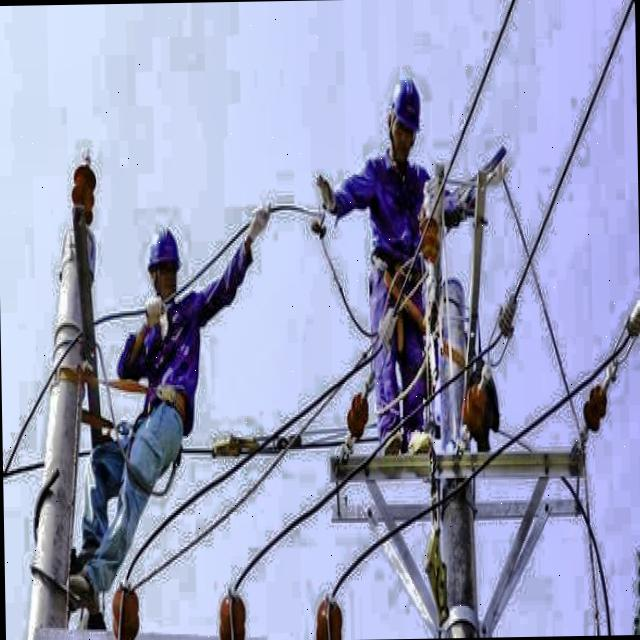helmet: (385, 66, 424, 168), (145, 218, 184, 312)
